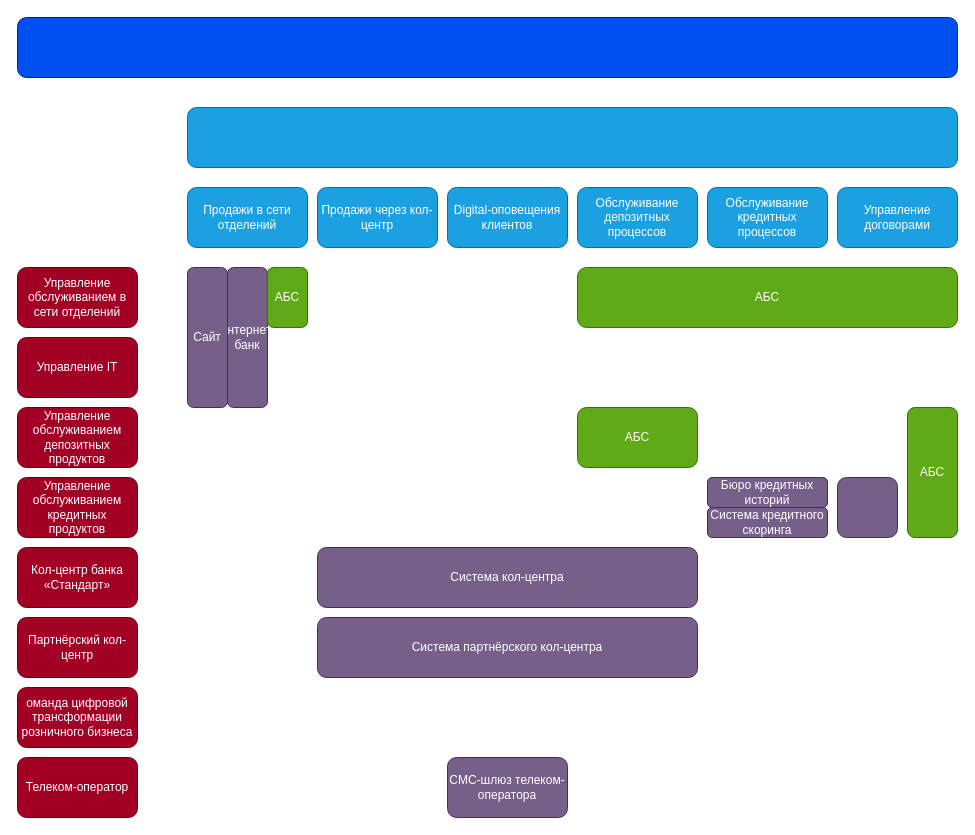
This 975x835 diagram has some shape labels left out. The box of each missing label's shape, as (x1, y1, x2, y2) in pixels:
бизнес-возможности: (186, 106, 958, 168)
Карта текущего IT-ландшафта: (16, 16, 958, 78)
Кредитный конвейер: (836, 476, 898, 538)
